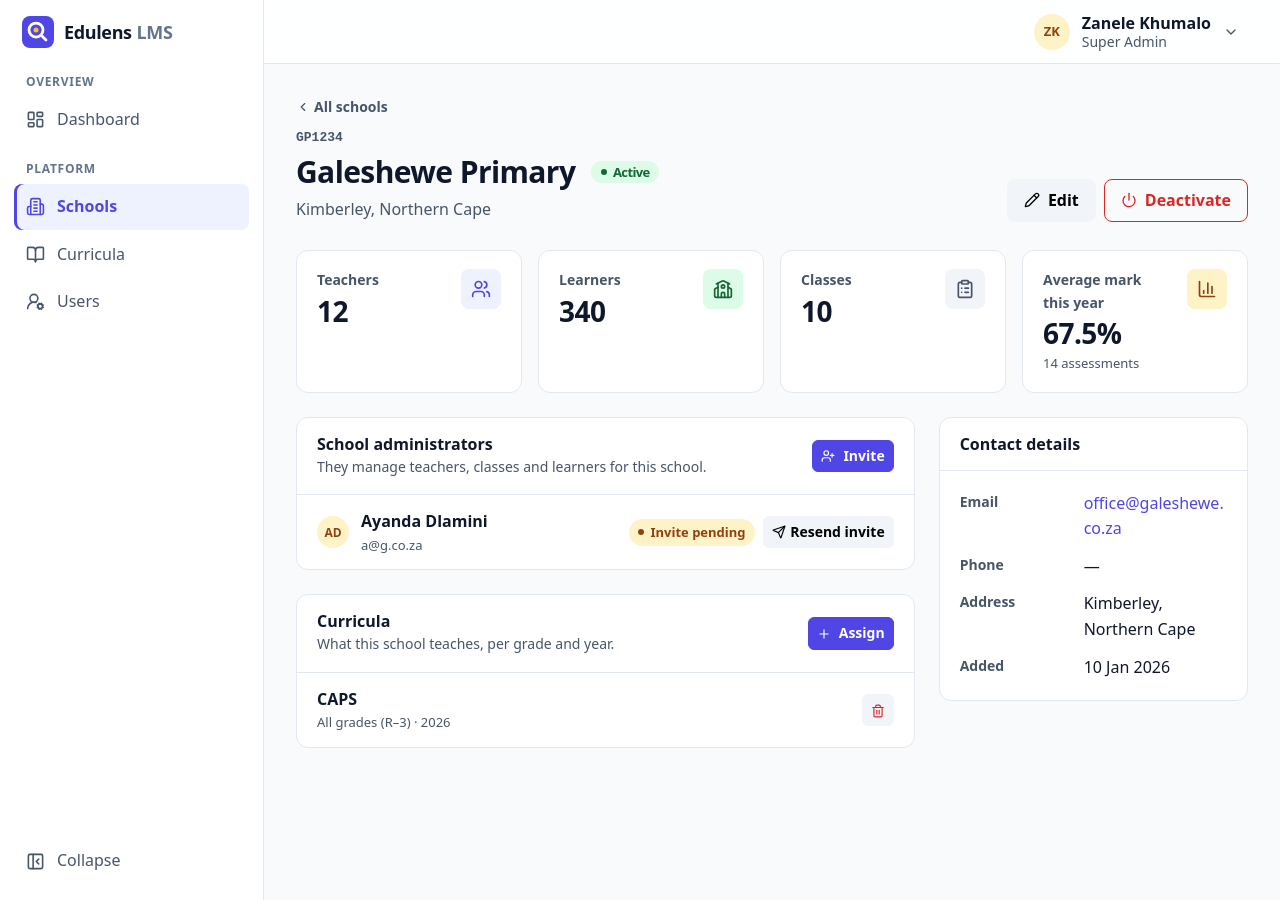
Test: School detail › shows a pending invitation and can resend it
Check: the text "Invite pending" is shown, box 629,519 -> 755,546
Click the button with aria-label "Resend invitation to Ayanda" at (828, 532), box 763,516 -> 894,548
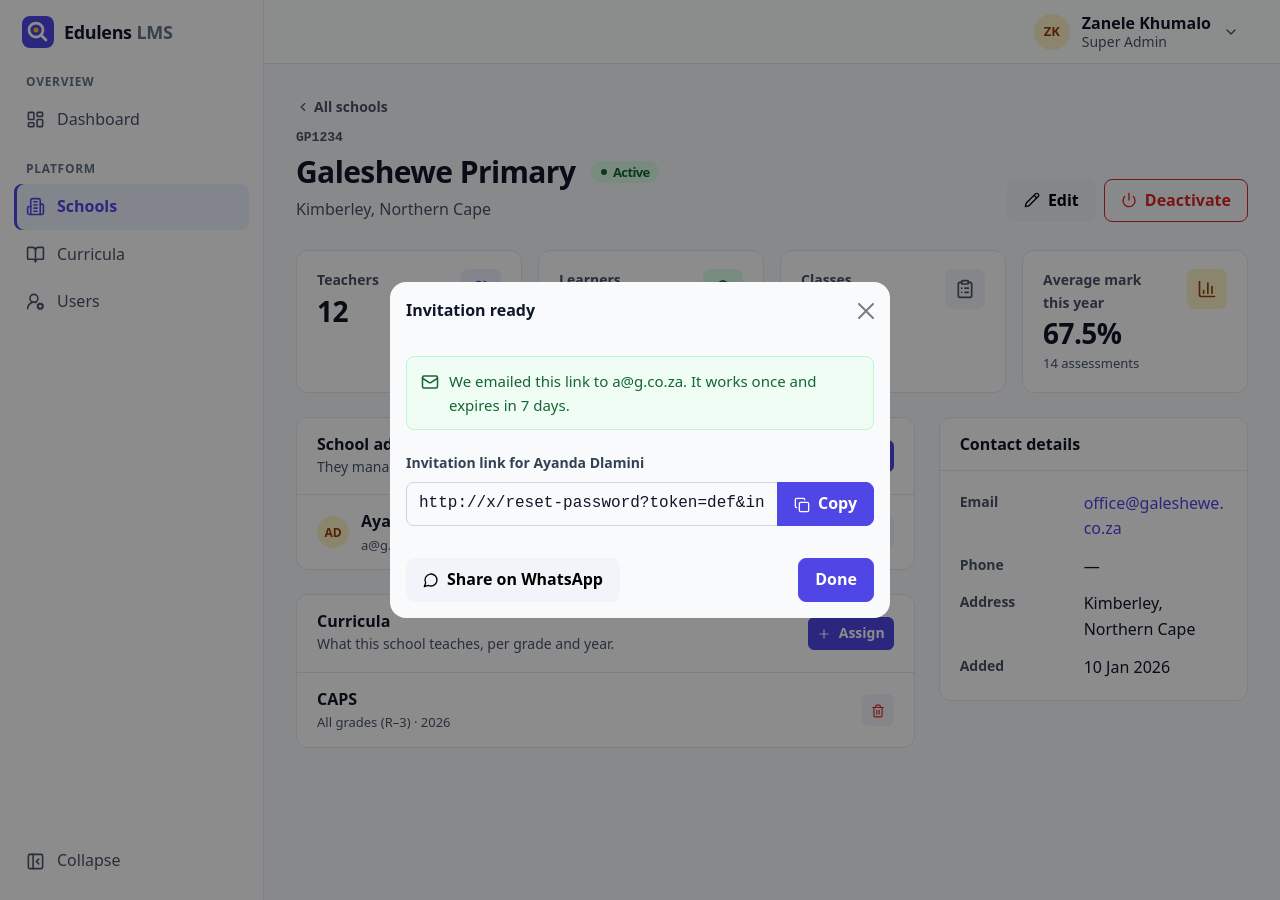
Check: the text "We emailed this link to a@g.co.za" is shown, box 449,371 -> 687,391
